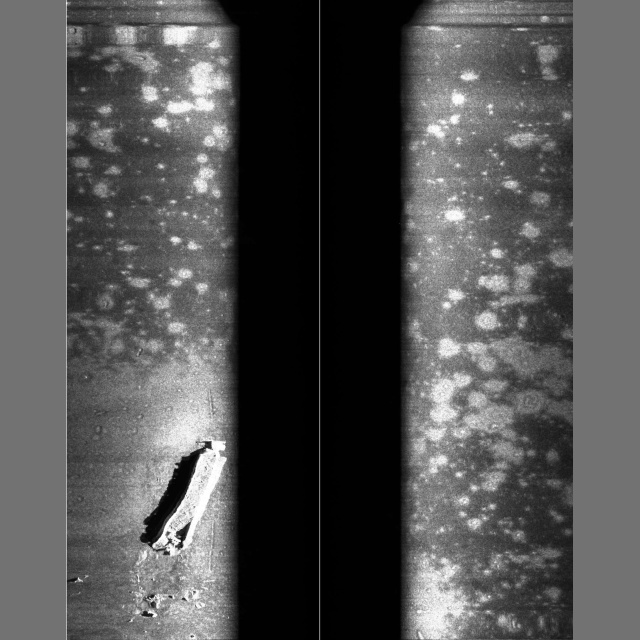Shipwreck: (74, 441, 230, 638)
